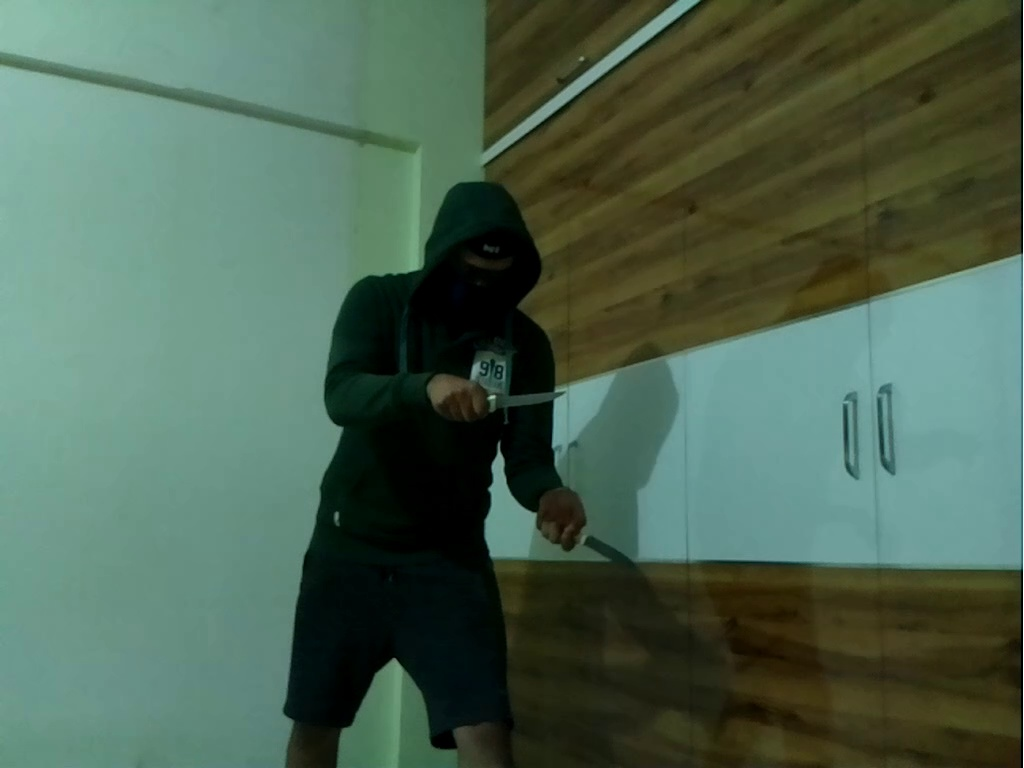knife: (541, 521, 644, 577), (462, 389, 570, 411)
